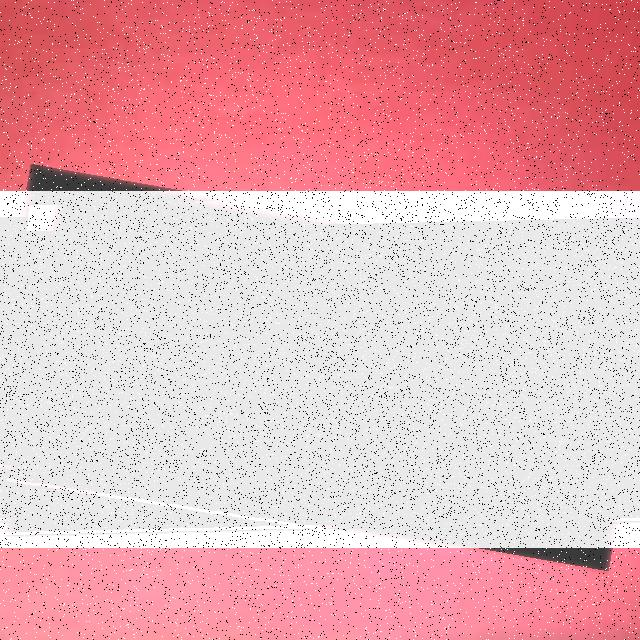lima puluh ribu rupiah: (0, 191, 640, 548)
